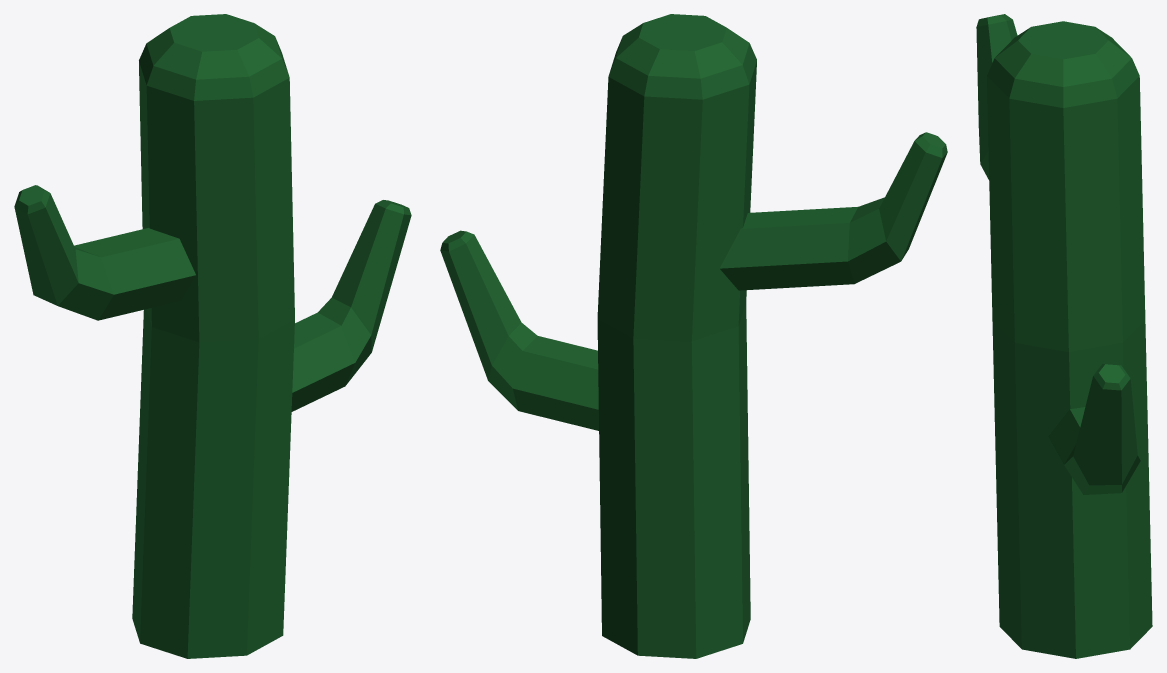
File: cactus1.fbx
3 renders of one model, left to right at view 1: azimuth 30°, elevation 25°; view 2: azimuth 150°, elevation 25°; view 3: azimuth 270°, elevation 25°, orthographic. The views are drawn at different scales.
Visible parts, largest first — view 1: Cactus; view 2: Cactus; view 3: Cactus.
Boxes of the visible parts, bbox=[...] form: Cactus: bbox=[14, 14, 411, 658]; Cactus: bbox=[440, 14, 947, 658]; Cactus: bbox=[976, 14, 1152, 658].
Bounding box in the file's own units: 128 × 163 × 44.41.
